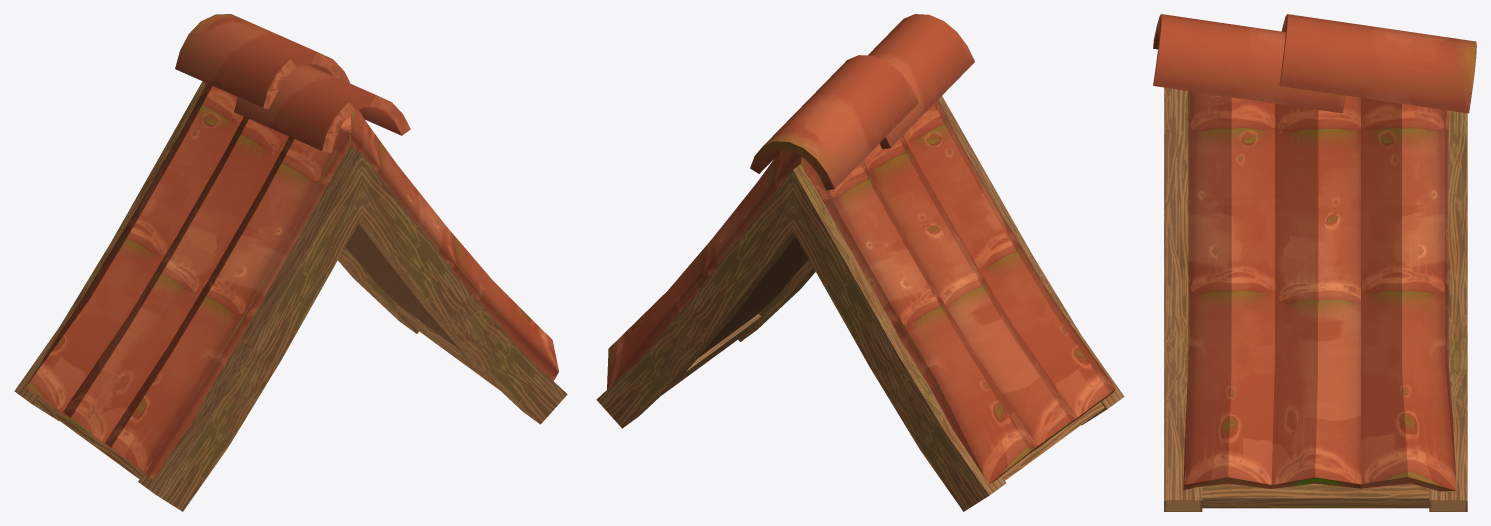
Rendered from Roof_RoundTile_2x1.obj.
3 views of the same model, side by side, from view 1: azimuth 30°, elevation 25°; view 2: azimuth 150°, elevation 25°; view 3: azimuth 270°, elevation 25° (orthographic). The views are drawn at different scales.
Parts seen in each view (by area): view 1: Roof_RoundTile_2x1; view 2: Roof_RoundTile_2x1; view 3: Roof_RoundTile_2x1.
Part boxes in pixels (x1,y1,x2,y2): Roof_RoundTile_2x1: (14, 14, 567, 511); Roof_RoundTile_2x1: (596, 14, 1124, 511); Roof_RoundTile_2x1: (1153, 14, 1476, 511).
Bounding box in the file's own units: 3.3 × 2.66 × 1.95.
